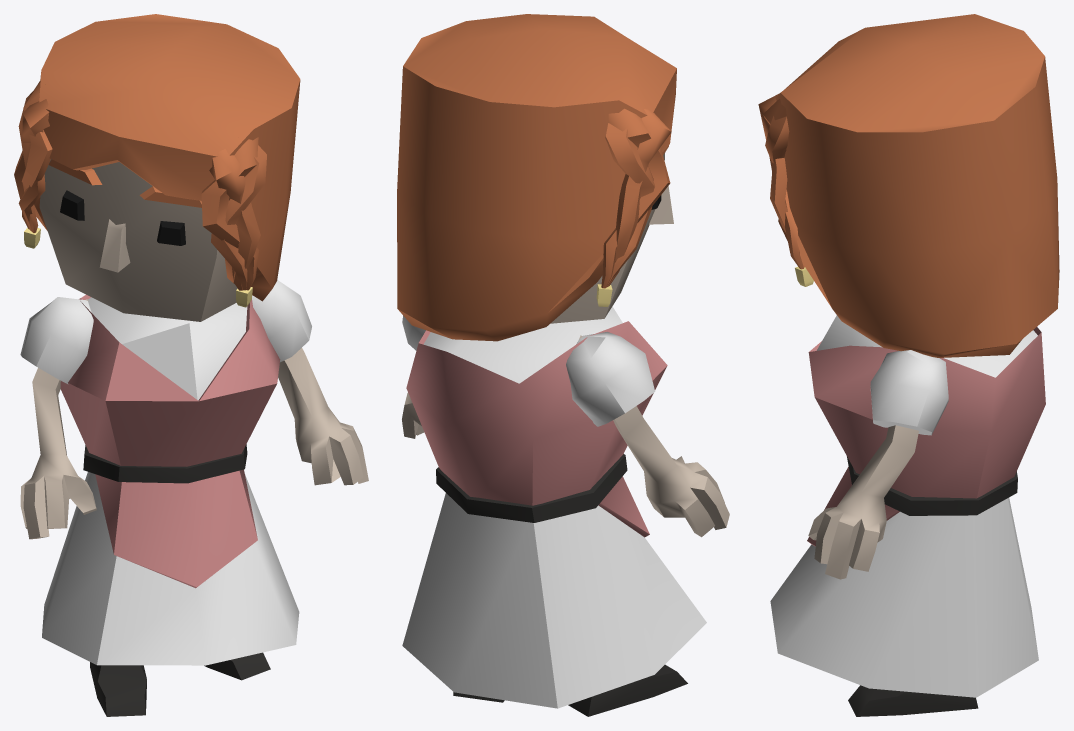
Rendered from femme-5.glb.
3 views of the same model, side by side, from view 1: azimuth 30°, elevation 25°; view 2: azimuth 150°, elevation 25°; view 3: azimuth 270°, elevation 25° (orthographic). The views are drawn at different scales.
Visible parts, largest first — view 1: FoodMerchant_GEO_CharTxt_MAT_0; view 2: FoodMerchant_GEO_CharTxt_MAT_0; view 3: FoodMerchant_GEO_CharTxt_MAT_0.
Boxes of the visible parts, x1,y1,x2,y2 form: FoodMerchant_GEO_CharTxt_MAT_0: (14, 14, 368, 716); FoodMerchant_GEO_CharTxt_MAT_0: (397, 14, 729, 716); FoodMerchant_GEO_CharTxt_MAT_0: (758, 14, 1059, 716).
Size of the model in its own units: 0.7242 by 1.35 by 0.5771.
Materials: 1 (1 with a texture image).
